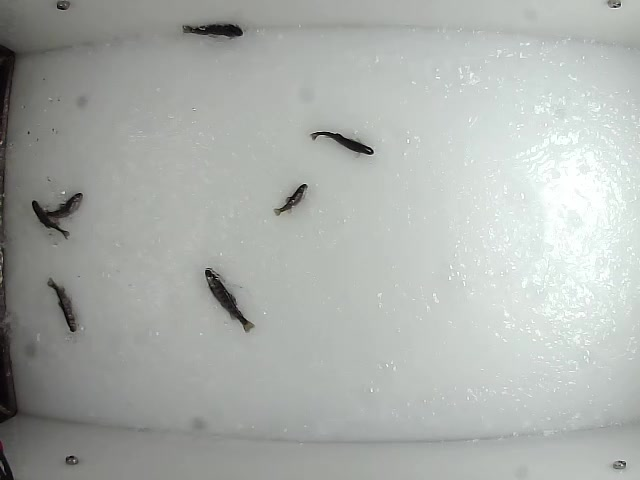fish: (202, 266, 257, 335), (307, 124, 379, 159), (42, 280, 82, 333), (26, 195, 72, 241), (36, 189, 85, 220), (272, 183, 309, 218), (182, 22, 243, 39)
